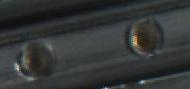joints: (125, 14, 164, 61), (12, 40, 59, 78)
